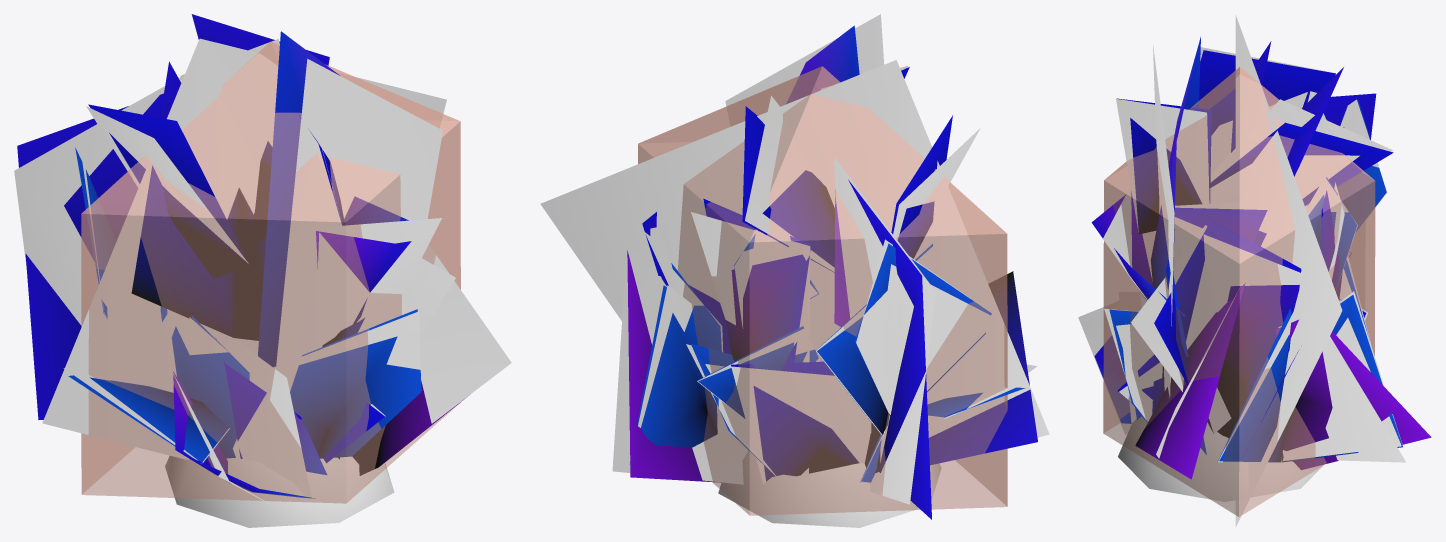
Rendered from Juniper_bush_large_dry_01.dae.
3 renders of one model, left to right at view 1: azimuth 30°, elevation 25°; view 2: azimuth 150°, elevation 25°; view 3: azimuth 270°, elevation 25°, orthographic. The views are drawn at different scales.
Parts seen in each view (by area): view 1: Colmesh-1, Juniper_large_01_dry_a100, Juniper_large_01_dry_a200; view 2: Juniper_large_01_dry_a100, Colmesh-1, Juniper_large_01_dry_a200; view 3: Colmesh-1, Juniper_large_01_dry_a200, Juniper_large_01_dry_a100.
Boxes of the visible parts, <box> form: Colmesh-1: <box>81,41,460,527</box>; Juniper_large_01_dry_a100: <box>14,38,511,518</box>; Juniper_large_01_dry_a200: <box>17,14,465,498</box>; Juniper_large_01_dry_a100: <box>540,14,1049,504</box>; Colmesh-1: <box>638,66,1007,527</box>; Juniper_large_01_dry_a200: <box>627,25,1037,519</box>; Colmesh-1: <box>1103,67,1375,516</box>; Juniper_large_01_dry_a200: <box>1091,37,1431,479</box>; Juniper_large_01_dry_a100: <box>1078,15,1406,526</box>.
Size of the model in its own units: 2.55 by 1.87 by 2.65.
